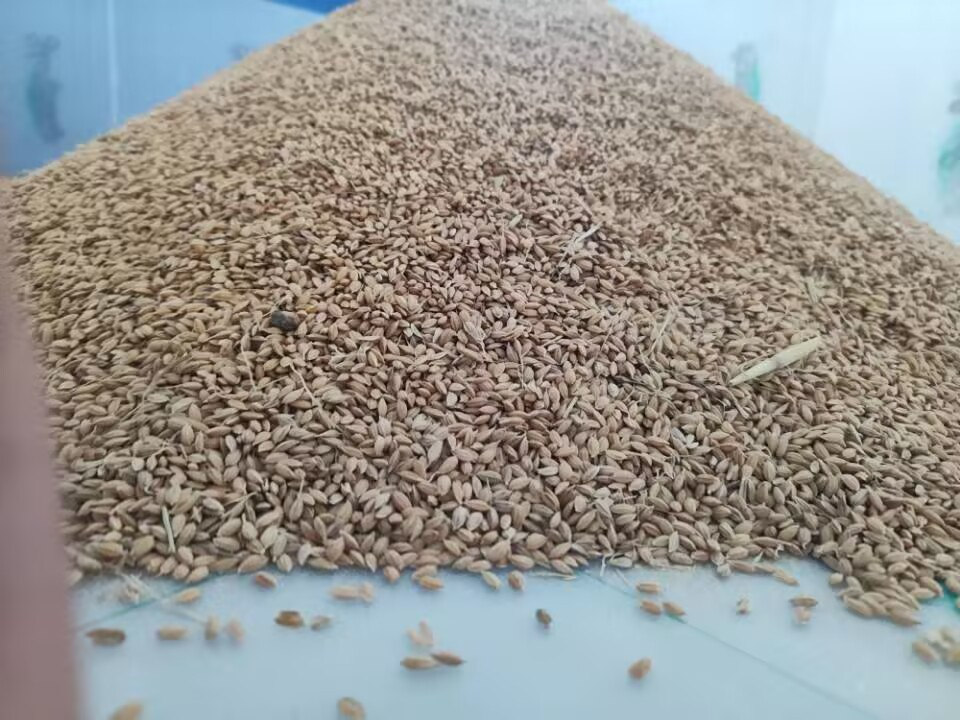Grain: (89, 11, 943, 638)
